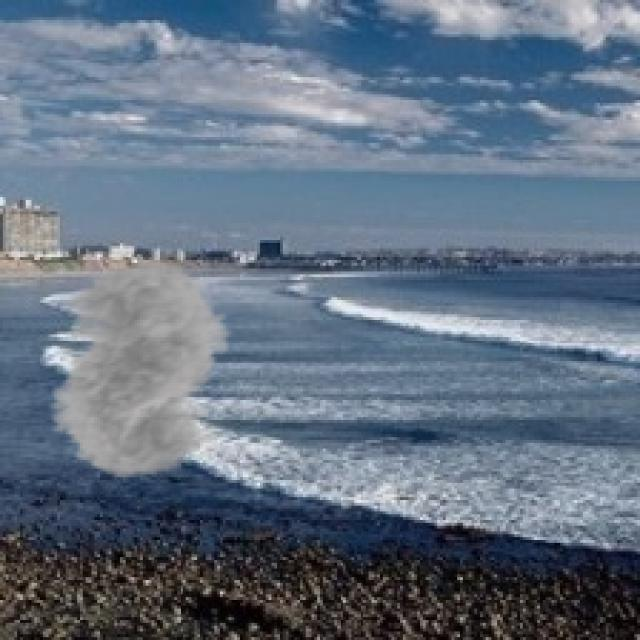smoke: (25, 260, 248, 480)
